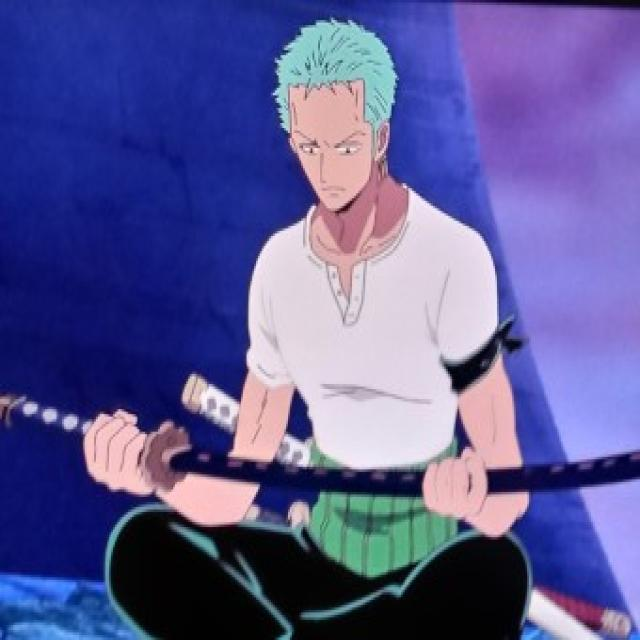Zoro: (262, 13, 406, 208)
